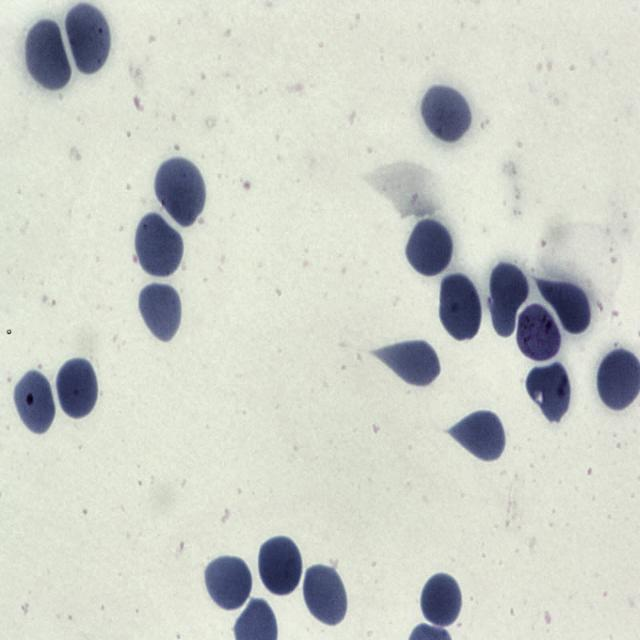red blood cell: (157, 154, 207, 228), (24, 17, 71, 94), (134, 210, 184, 280), (420, 80, 473, 144), (64, 5, 110, 77), (372, 338, 440, 386), (450, 409, 507, 464), (438, 274, 483, 343), (12, 368, 56, 438), (544, 276, 593, 338), (406, 216, 454, 279), (302, 562, 348, 627), (526, 362, 572, 426), (203, 554, 253, 612), (56, 356, 99, 422), (138, 280, 182, 344), (257, 535, 303, 596), (490, 259, 530, 328), (419, 570, 464, 628)
ring: (517, 304, 564, 362)
